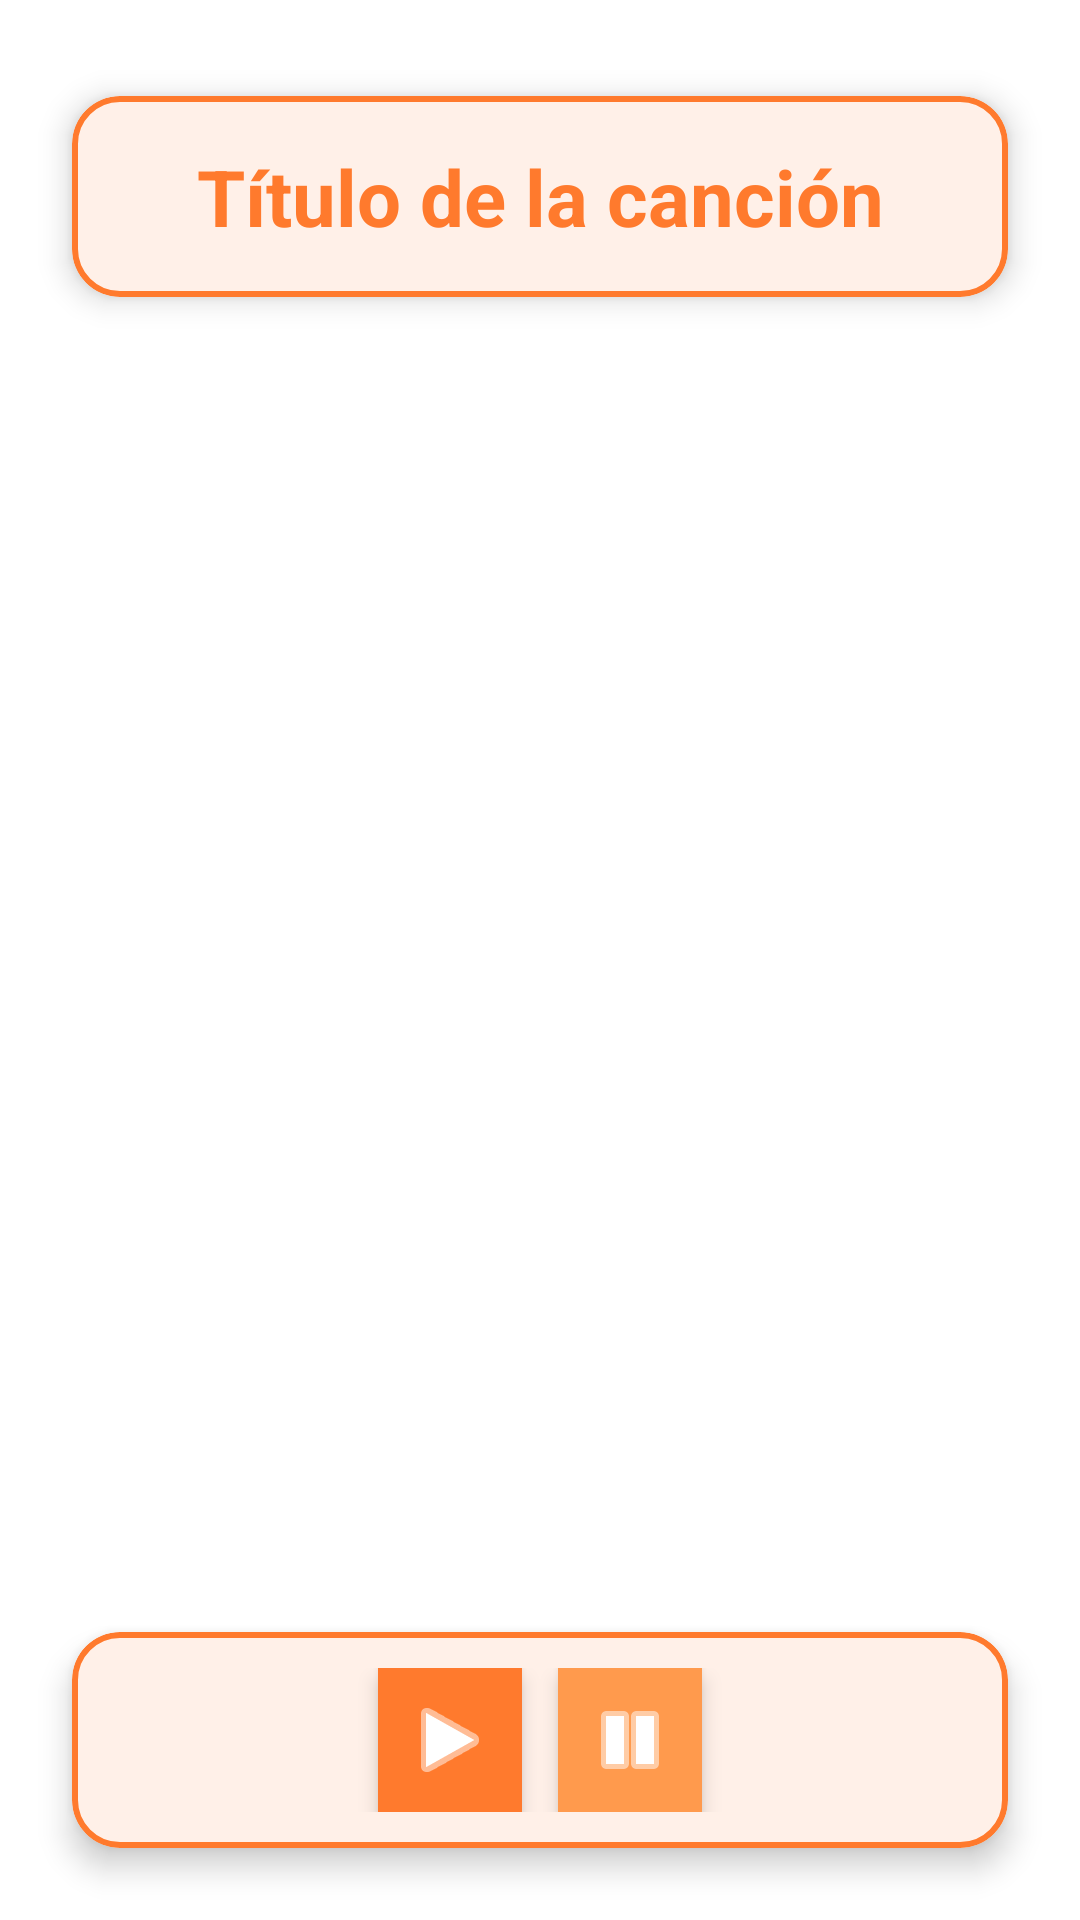

Icon click points for this 1080x1920 phone screenshot, format (x,y):
Pausar: (630,1740)
Reproducir: (450,1740)
